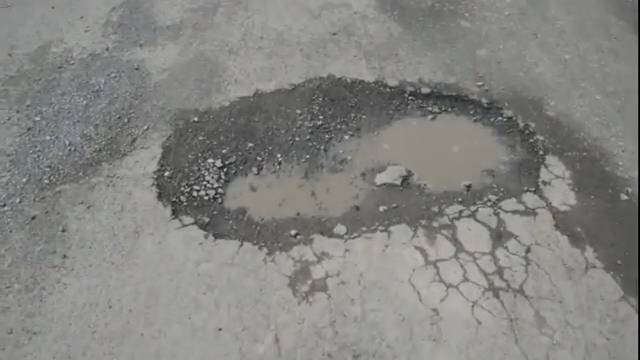pothole: (198, 85, 545, 360), (515, 115, 637, 285)
